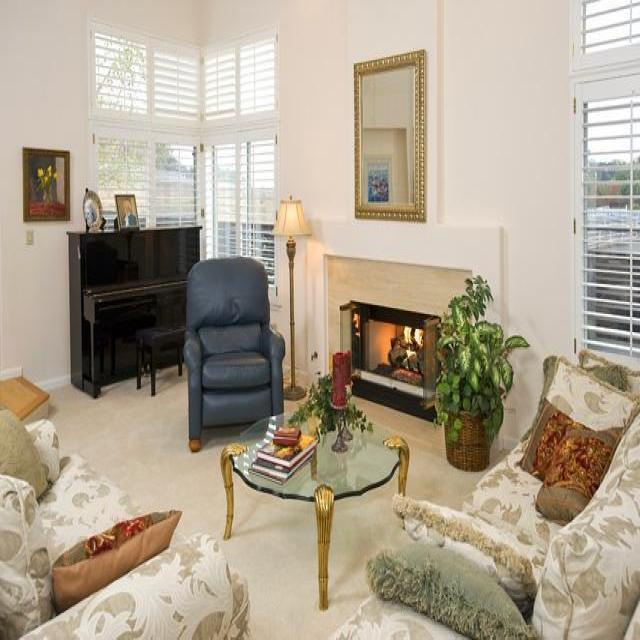chair: (182, 255, 285, 452)
clock: (82, 188, 104, 231)
pillows: (364, 540, 535, 638), (50, 508, 182, 613)
plants: (431, 272, 529, 470), (287, 370, 373, 444)
sofa: (329, 347, 639, 639), (0, 406, 250, 638)
table: (219, 406, 410, 610)
table-lamp: (271, 193, 312, 400)
window: (87, 16, 279, 296), (569, 0, 639, 368)
